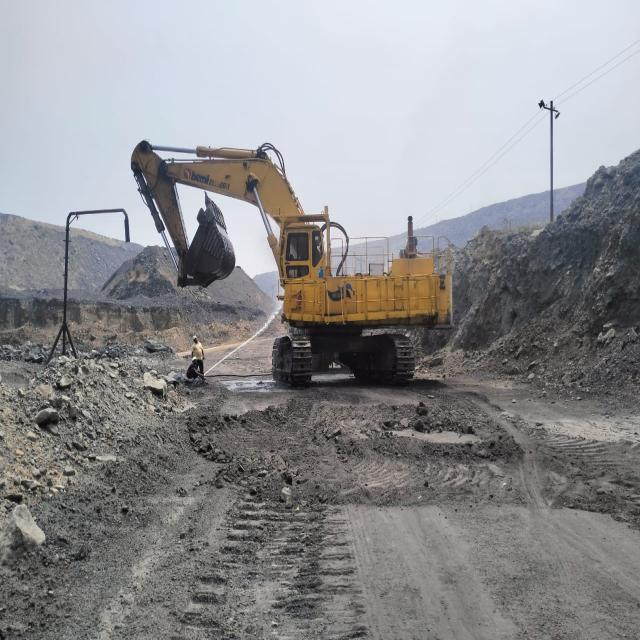excavator: (134, 132, 461, 332)
